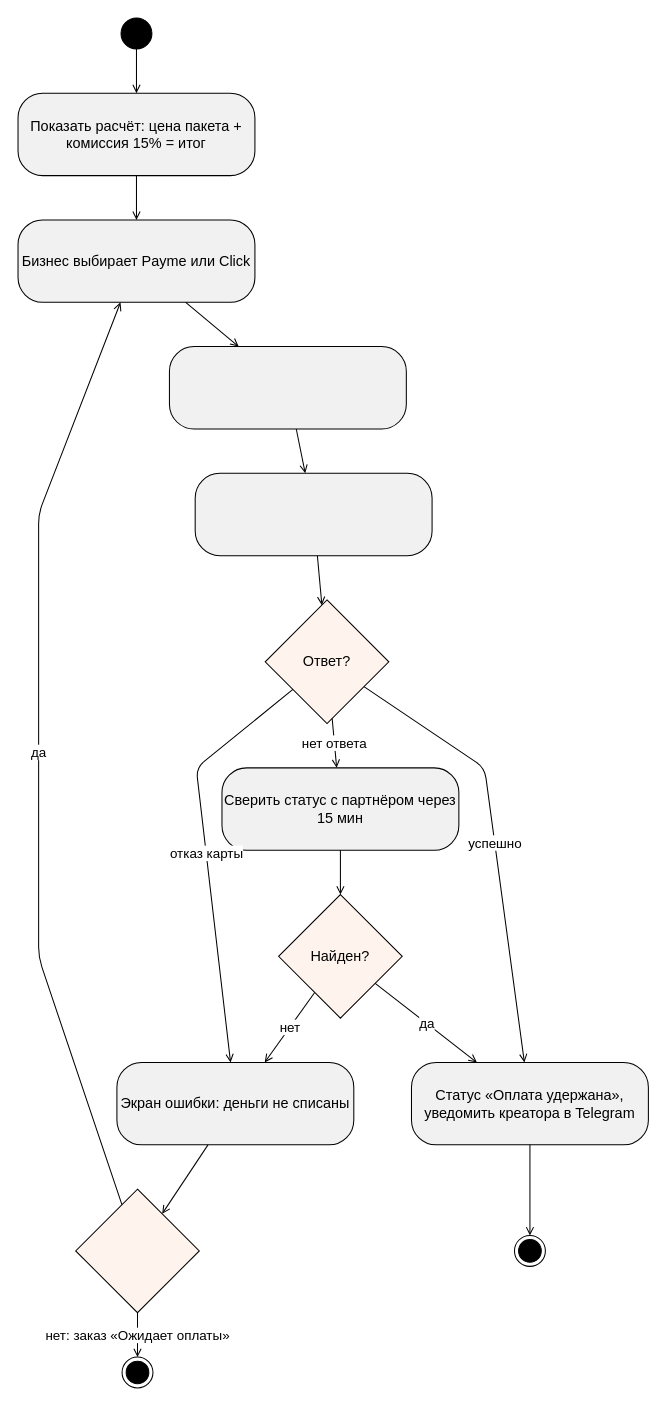
The diagram is 666 pixels wide and 1406 high, and some of its shapes have lost their labels. Here are the shapes that lost their labels. From the top down, the centre of each, then its label:
At (x=287, y=387): "Создать платёж с удержанием, открыть страницу партнёра".
At (x=313, y=514): "Бизнес вводит карту на странице партнёра".
At (x=137, y=1250): "Повторить?".
